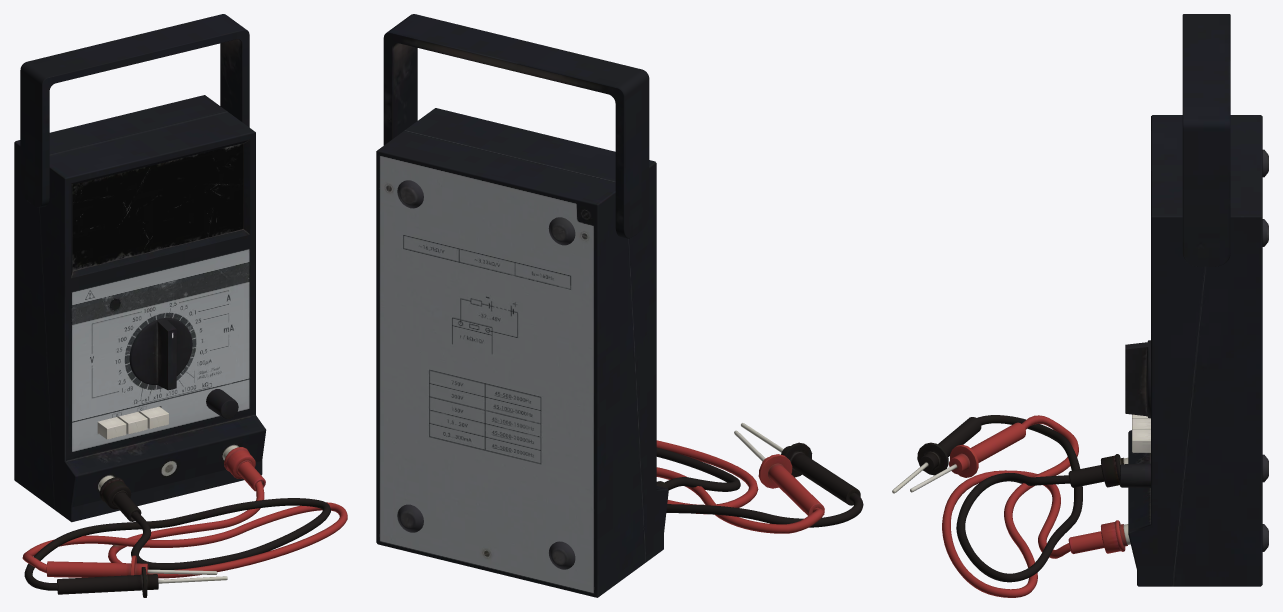
Rendered from retro_multimeter.glb.
3 views of the same model, side by side, from view 1: azimuth 30°, elevation 25°; view 2: azimuth 150°, elevation 25°; view 3: azimuth 270°, elevation 25° (orthographic). The views are drawn at different scales.
Visible parts, largest first — view 1: retro_multimeter_LOD0; view 2: retro_multimeter_LOD0; view 3: retro_multimeter_LOD0.
Boxes of the visible parts, x1,y1,x2,y2 form: retro_multimeter_LOD0: (14,14,347,597); retro_multimeter_LOD0: (376,14,863,597); retro_multimeter_LOD0: (892,14,1268,597).
Size of the model in its own units: 0.216 by 0.2786 by 0.2026.
Materials: 2 (2 with a texture image).
